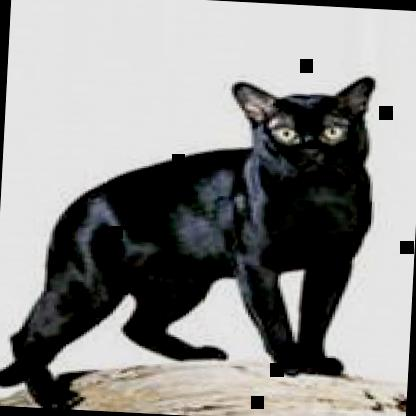cat: (0, 56, 387, 415)
